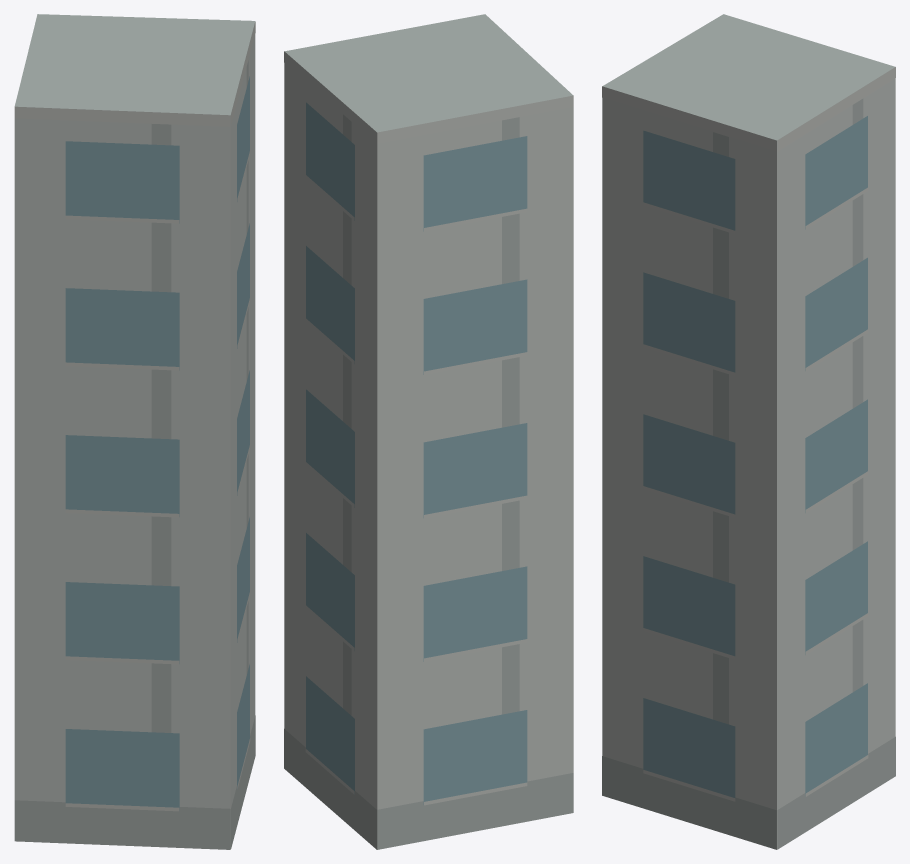
The model's file is survey-upis-32696267.glb.
The picture shows the model from 3 angles, left to right: view 1: azimuth 30°, elevation 25°; view 2: azimuth 150°, elevation 25°; view 3: azimuth 270°, elevation 25°; orthographic projection. The views are drawn at different scales.
Visible parts, largest first — view 1: survey-upis-32696267.tmp; view 2: survey-upis-32696267.tmp; view 3: survey-upis-32696267.tmp.
Boxes of the visible parts, bbox=[...] form: survey-upis-32696267.tmp: bbox=[14, 14, 255, 849]; survey-upis-32696267.tmp: bbox=[284, 14, 573, 849]; survey-upis-32696267.tmp: bbox=[602, 14, 895, 849].
Bounding box in the file's own units: 5.84 × 15.25 × 5.73.
